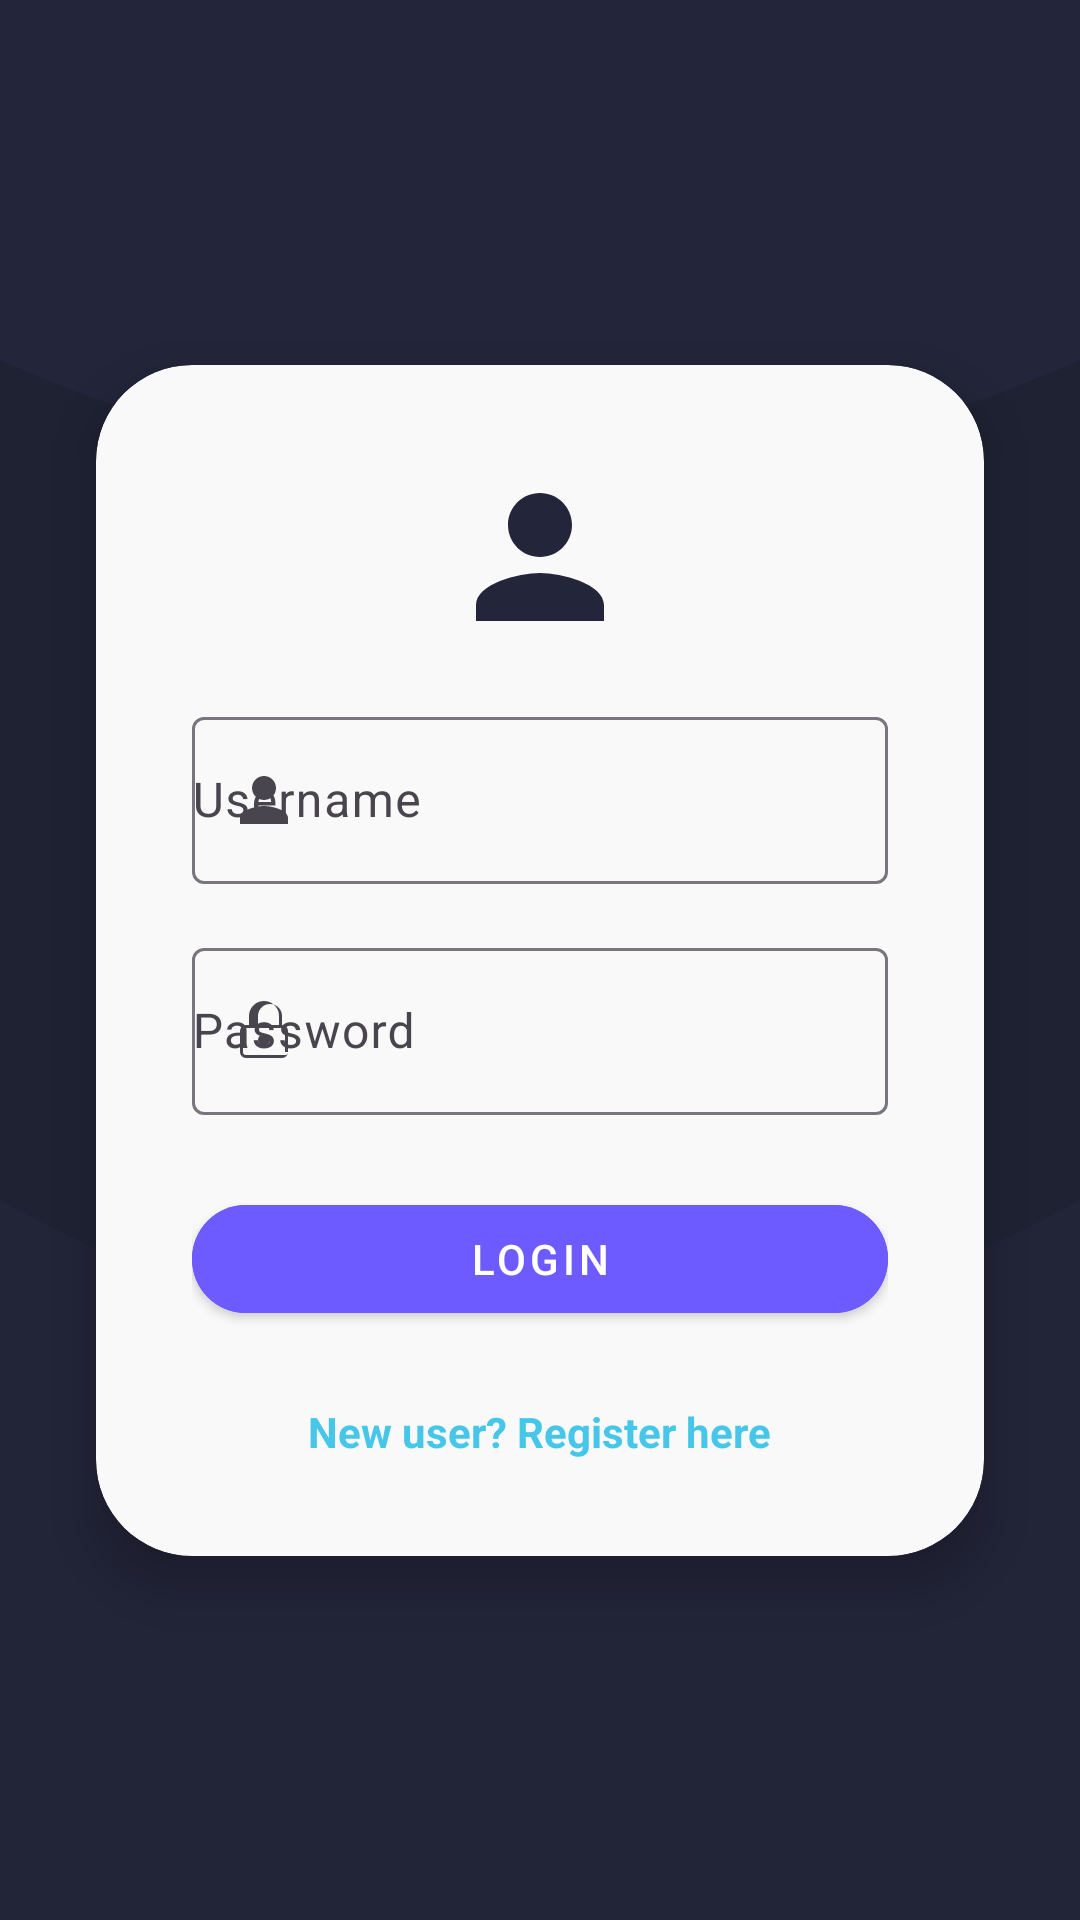

Named icons in this screenshot (1080px x 1920px) and their centers, (x=x, y=y):
Login Icon: (x=540, y=557)
